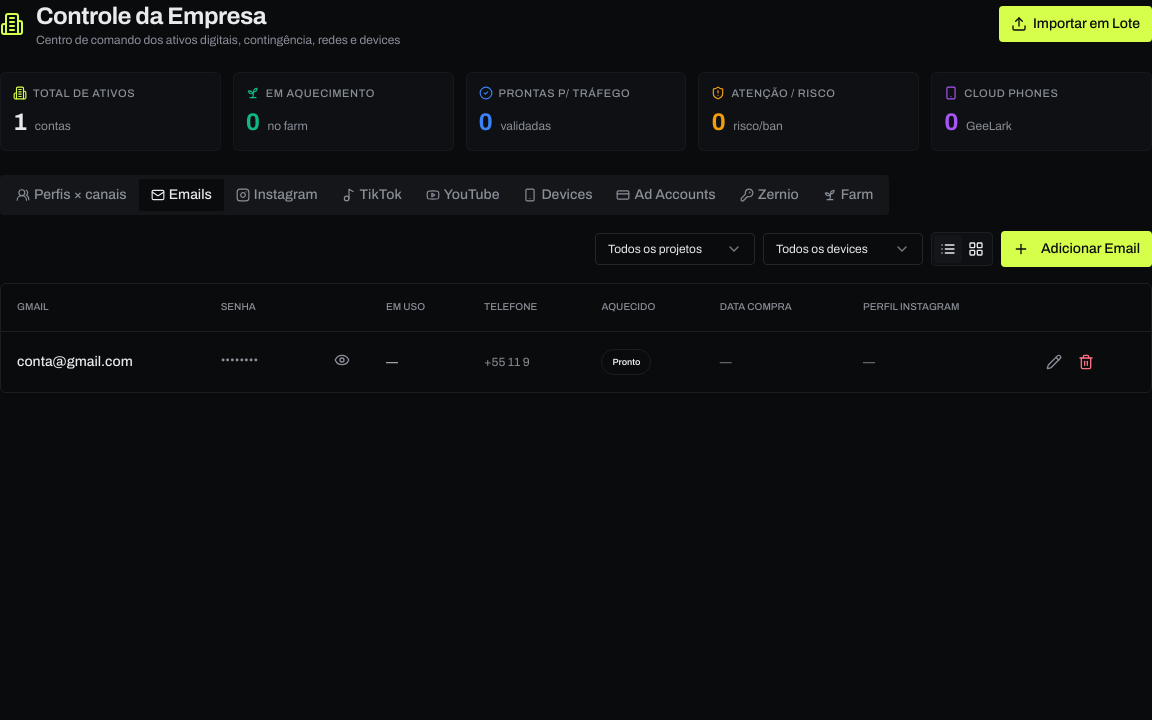
Empresa → contas de e-mail › edit modal scrolls inside, keeps Save visible, groups fields and keeps the vault reference when saving
Later steps or results of the test are not shown.
Expected: the text "conta@gmail.com" is shown, [17,352,133,372]
Click the 6th button: x=1054, y=362 [1040,348,1068,376]
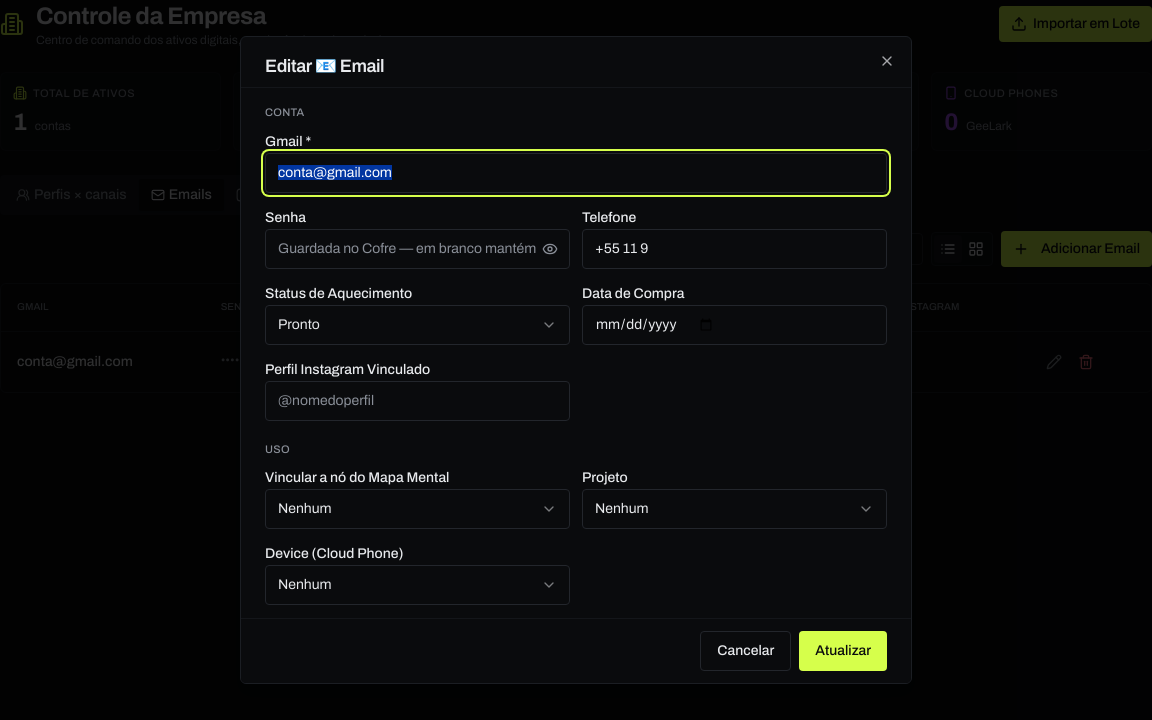
Now the text "Conta" is shown, box [265,106,304,118]
Now the text "Uso" is shown, box [265,442,290,454]
Now the password field with placeholder "Guardada no Cofre — em branco mantém" is empty, box [265,228,570,268]
